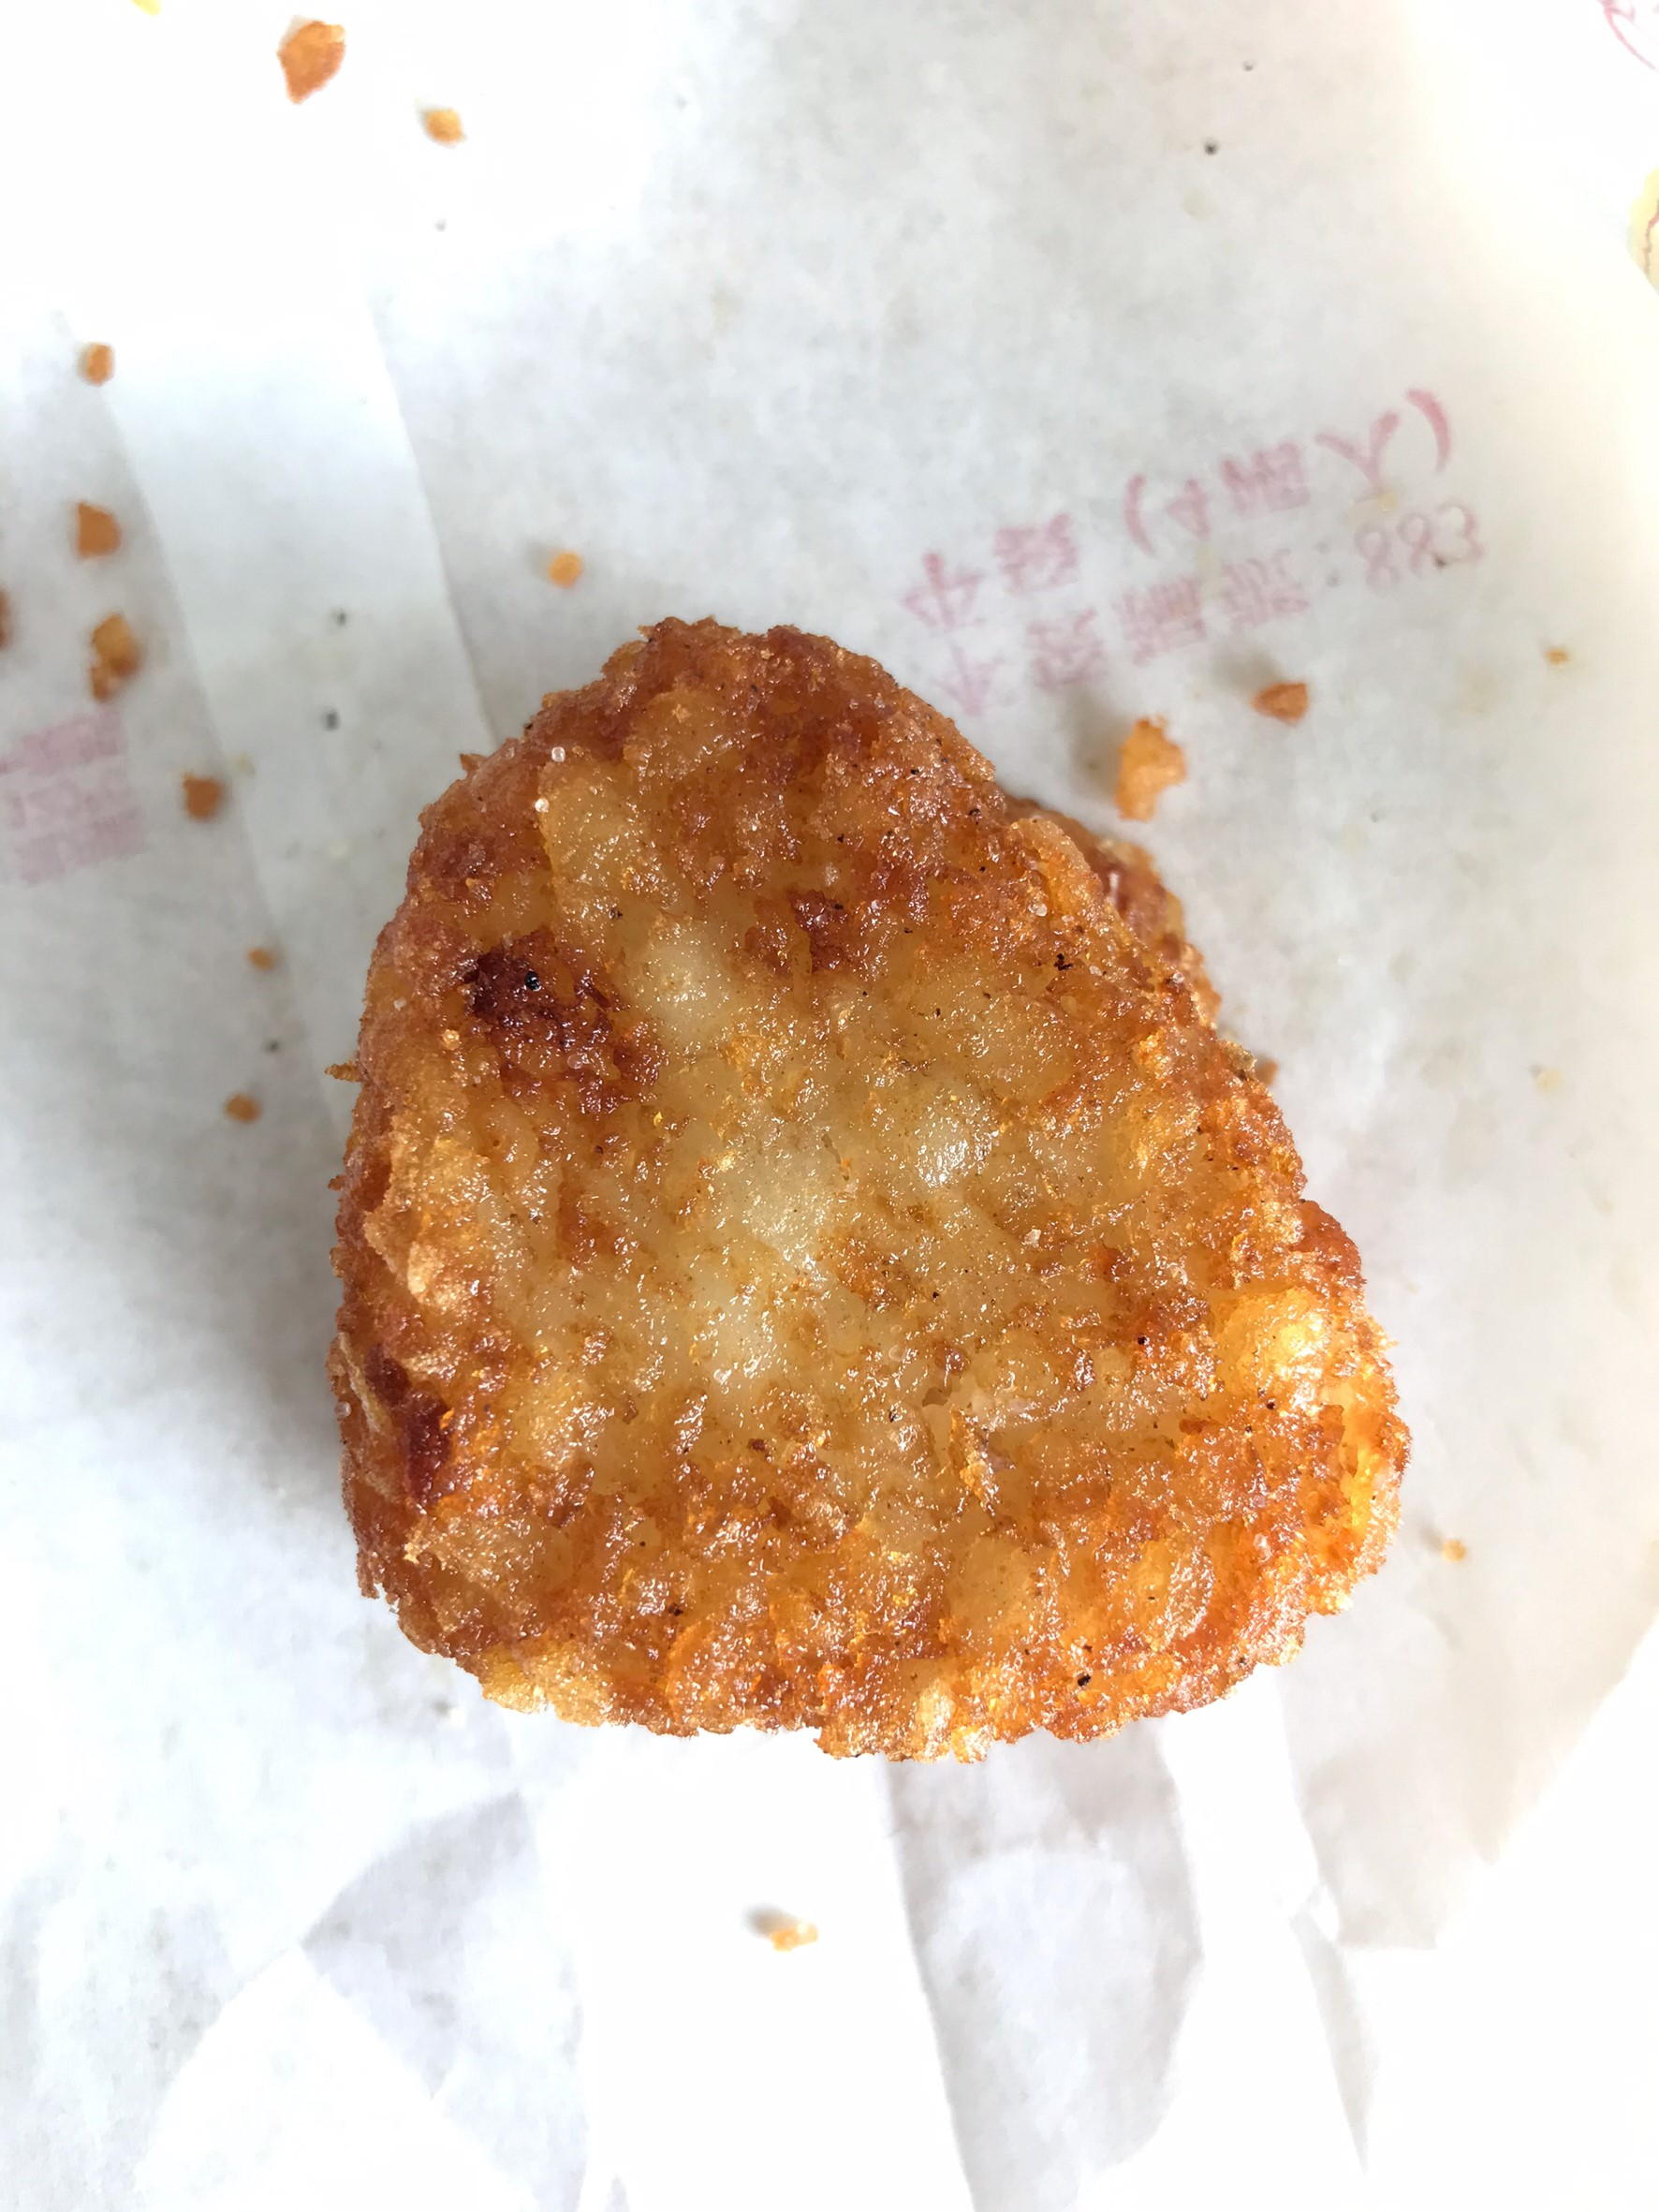triangle_hash_brown: (314, 600, 1431, 1768)
